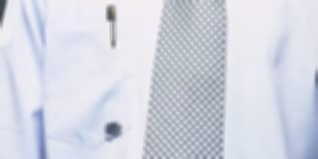ink: (104, 121, 123, 141)
